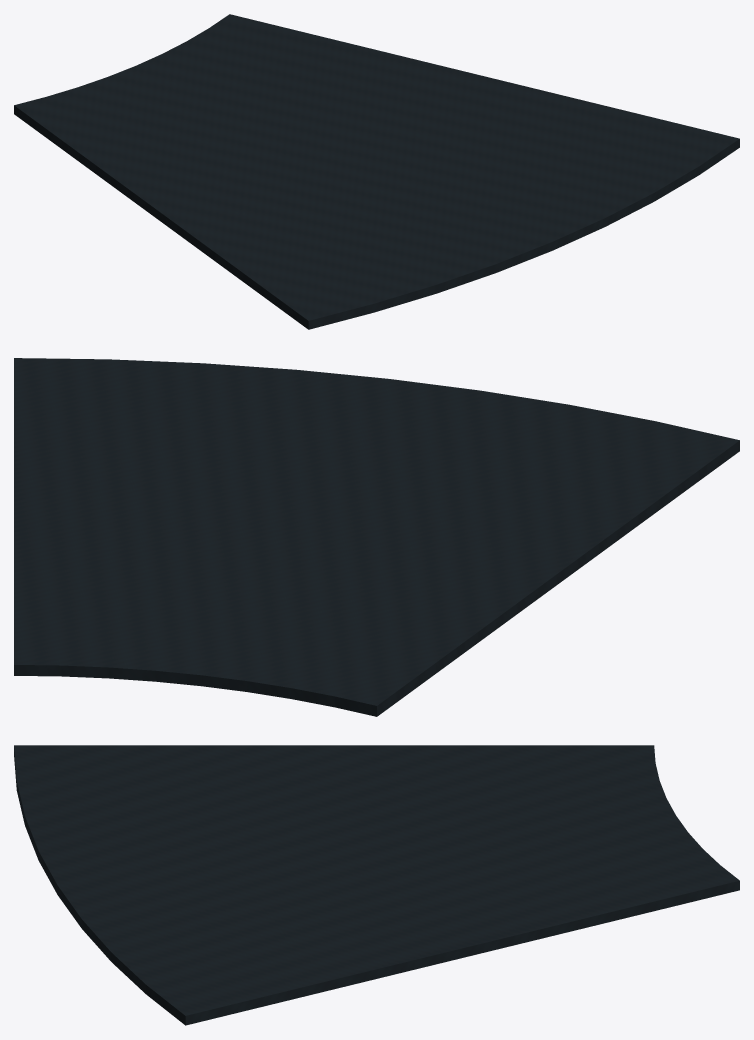
File: Transit_Road_4L_Curve30_R18_Surface.glb
3 views of the same model, one above another, from view 1: azimuth 30°, elevation 25°; view 2: azimuth 150°, elevation 25°; view 3: azimuth 270°, elevation 25° (orthographic). The views are drawn at different scales.
Parts seen in each view (by area): view 1: Transit_Road_4L_Curve30_R18_Surface; view 2: Transit_Road_4L_Curve30_R18_Surface; view 3: Transit_Road_4L_Curve30_R18_Surface.
Boxes of the visible parts, bbox=[...] form: Transit_Road_4L_Curve30_R18_Surface: bbox=[14, 14, 739, 329]; Transit_Road_4L_Curve30_R18_Surface: bbox=[14, 358, 739, 716]; Transit_Road_4L_Curve30_R18_Surface: bbox=[14, 745, 739, 1025].
Size of the model in its own units: 12 by 0.2 by 13.61.
Materials: 1 (1 with a texture image).
